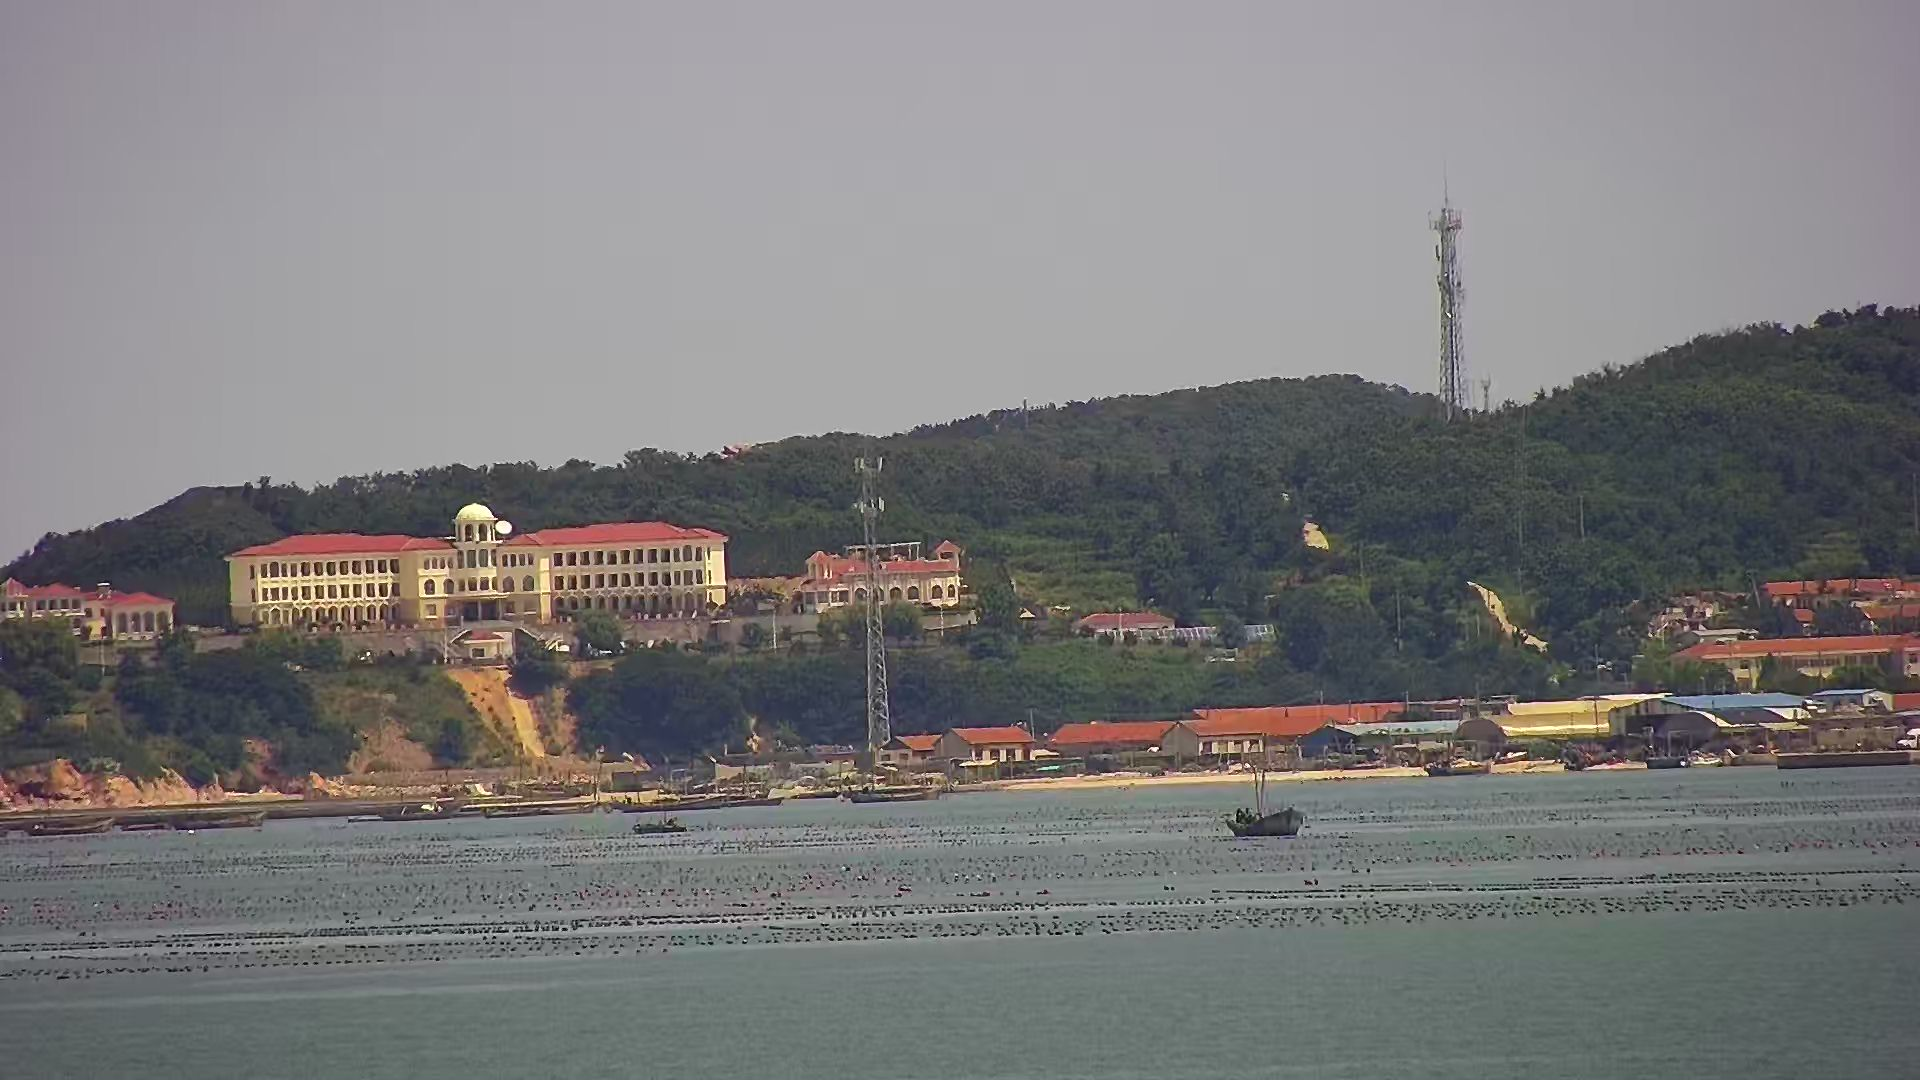boat: (1218, 764, 1308, 841)
